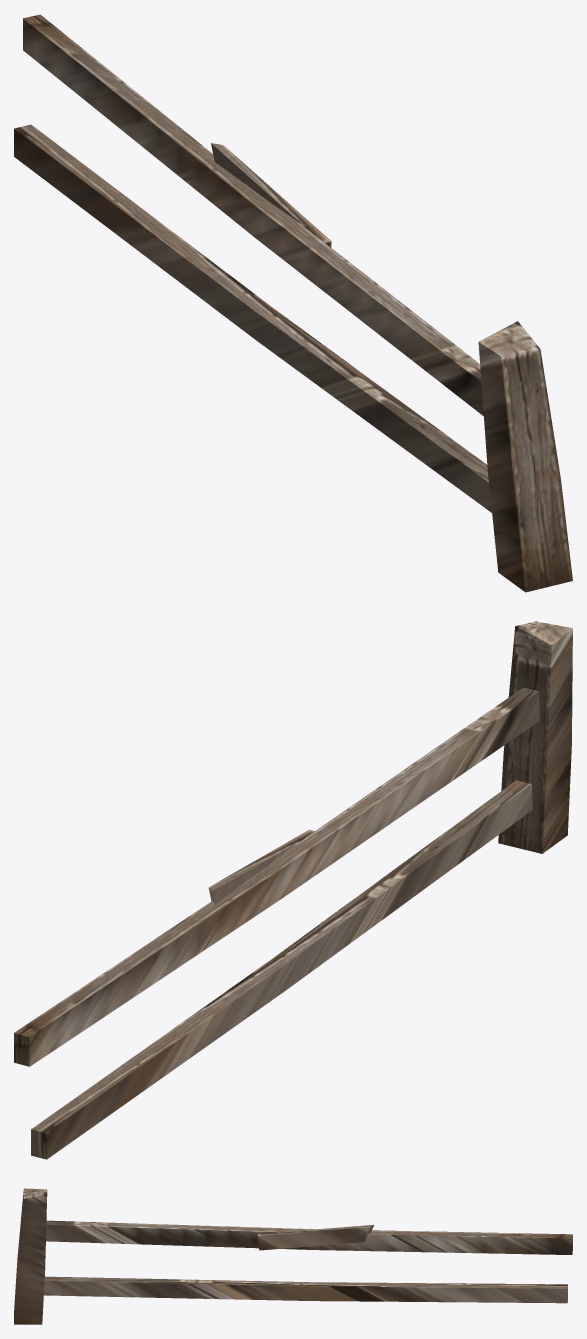
File: start_fence_16.glb
The picture shows the model from 3 angles, top to bottom: view 1: azimuth 30°, elevation 25°; view 2: azimuth 150°, elevation 25°; view 3: azimuth 270°, elevation 25°; orthographic projection. The views are drawn at different scales.
Visible parts, largest first — view 1: start_fence_16_game; view 2: start_fence_16_game; view 3: start_fence_16_game.
Boxes of the visible parts, x1=… form: start_fence_16_game: x1=14, y1=14, x2=572, y2=592; start_fence_16_game: x1=14, y1=621, x2=572, y2=1159; start_fence_16_game: x1=14, y1=1188, x2=572, y2=1324.
Size of the model in its own units: 0.3868 by 1.29 by 5.21.
Materials: 1 (1 with a texture image).
